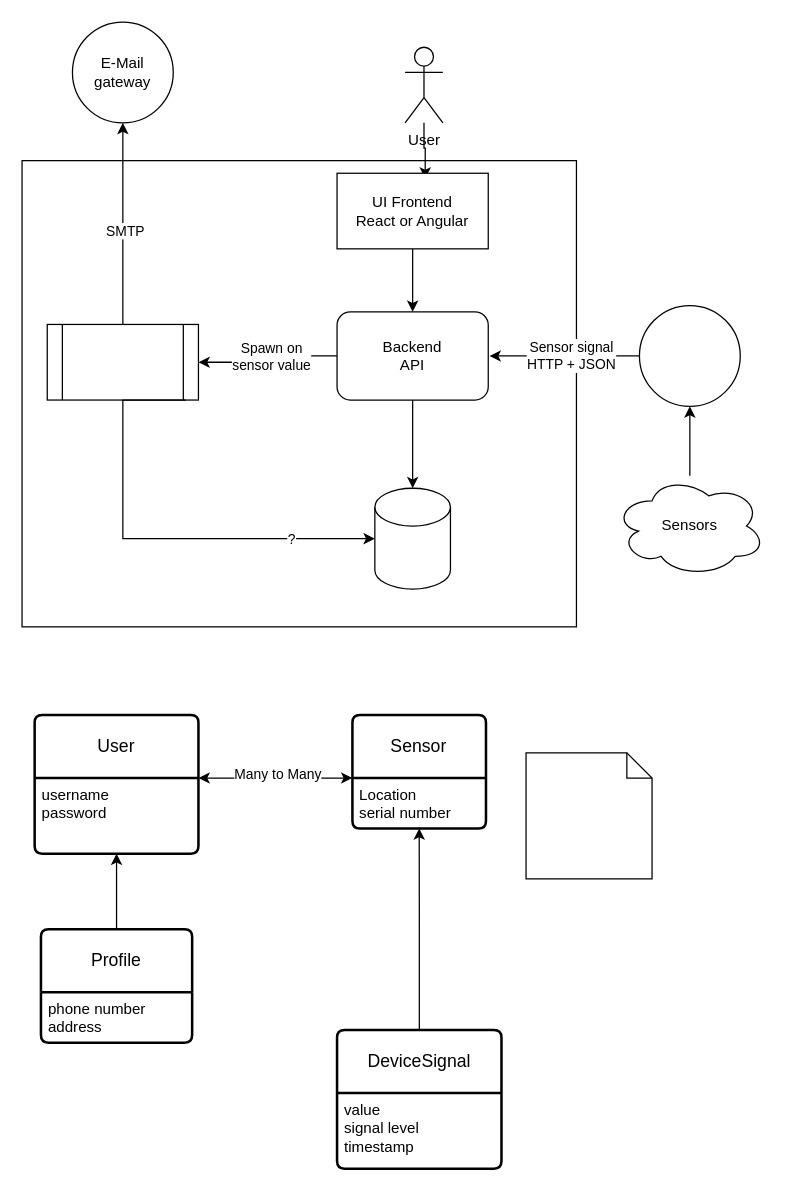
Some shapes in this 788 by 1192 pixel diagram are drawn without their labels. The shapes that lost their labels are listed below. From the top down, each one's centre as x and y in pixels, then its label:
At point (122, 361): "Alert task".
At point (689, 355): "Sensor central".
At point (412, 538): "Database".
At point (588, 815): "Do we need to log alerts to the database?".
